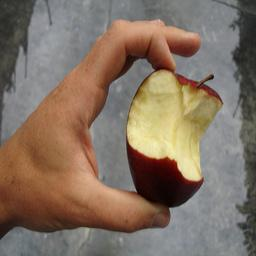apple: (128, 72, 226, 208)
